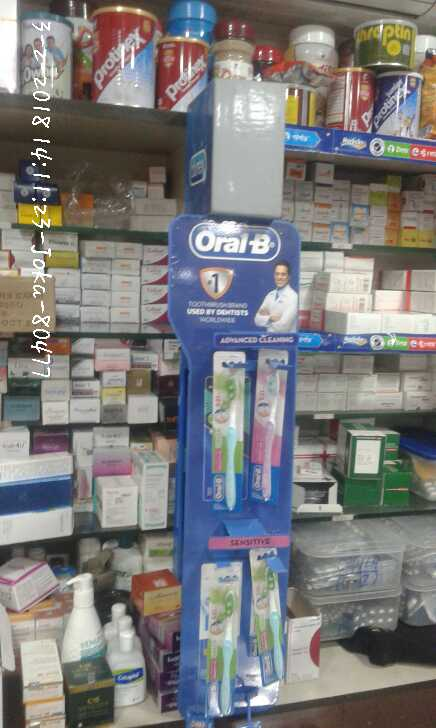oralb: (195, 557, 239, 716), (248, 353, 287, 507), (210, 351, 246, 511), (250, 537, 283, 690)
